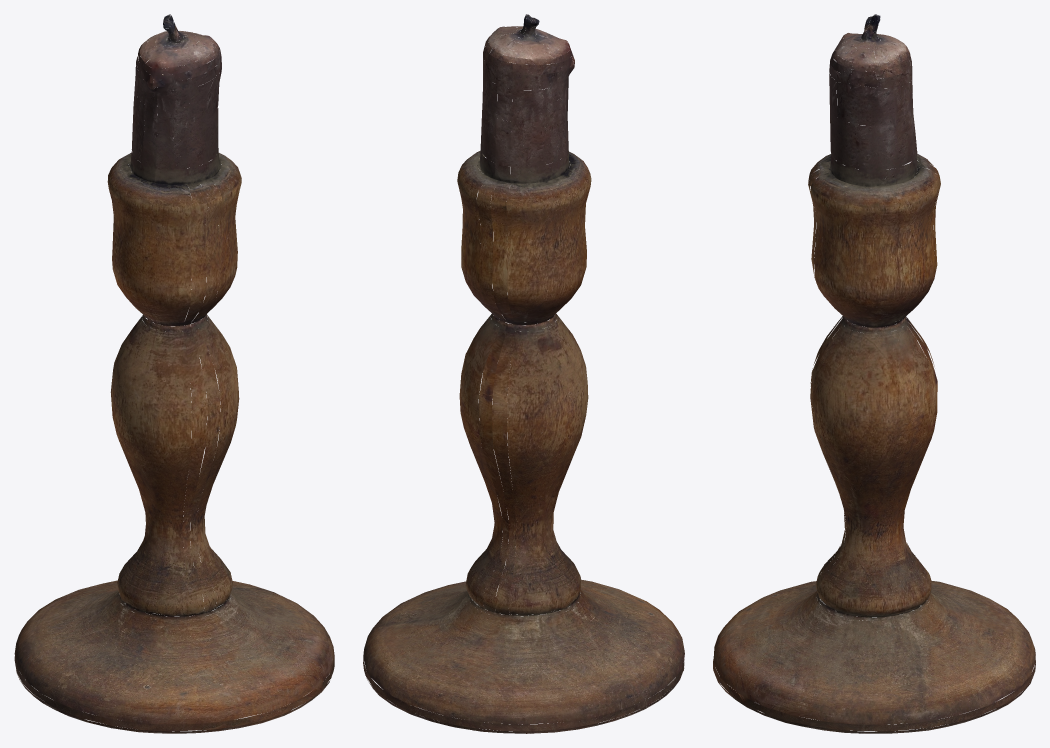
File: wooden_candlestick.glb
The picture shows the model from 3 angles, left to right: view 1: azimuth 30°, elevation 25°; view 2: azimuth 150°, elevation 25°; view 3: azimuth 270°, elevation 25°; orthographic projection.
Visible parts, largest first — view 1: wooden_candlestick; view 2: wooden_candlestick; view 3: wooden_candlestick.
Boxes of the visible parts, x1,y1,x2,y2 form: wooden_candlestick: (14,14,334,733); wooden_candlestick: (363,14,684,733); wooden_candlestick: (713,14,1035,733).
Size of the model in its own units: 0.0972 by 0.2197 by 0.0986.
1 material, 1 textured.
